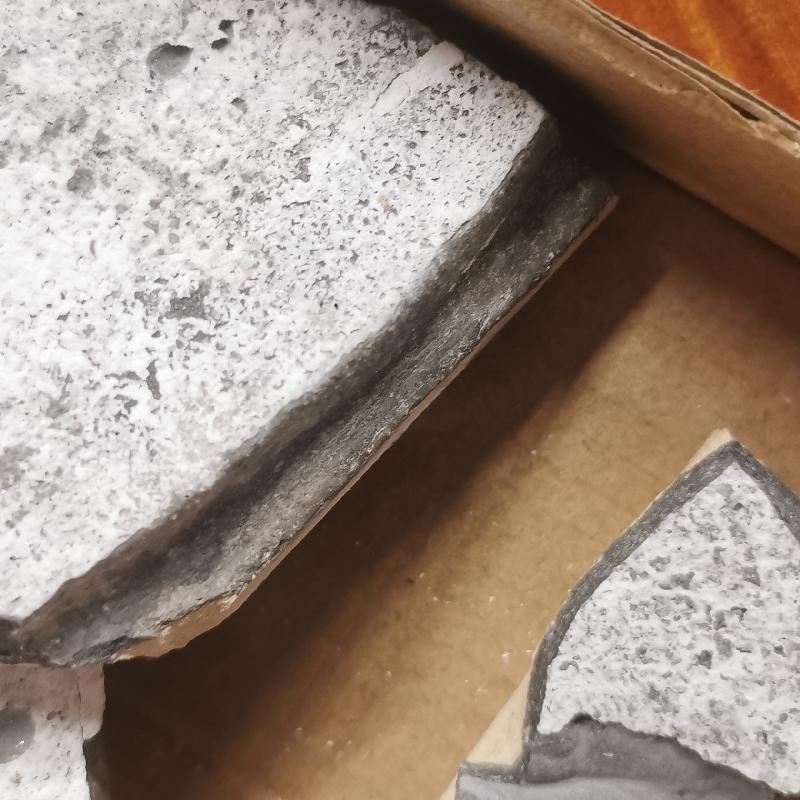tile: (5, 3, 591, 752)
